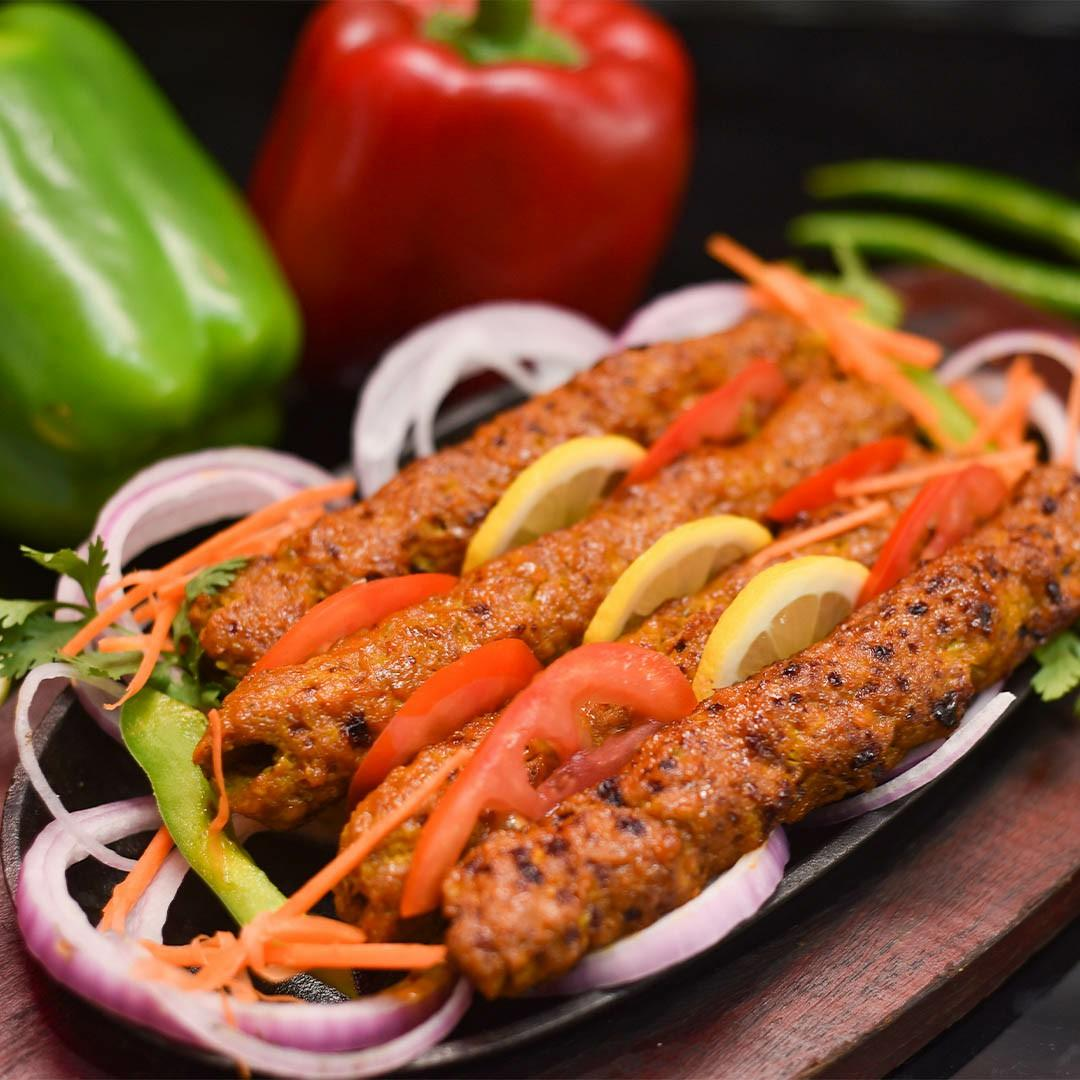Kebab: (336, 441, 1033, 931), (196, 374, 910, 846), (441, 475, 1080, 989), (185, 302, 831, 678)
